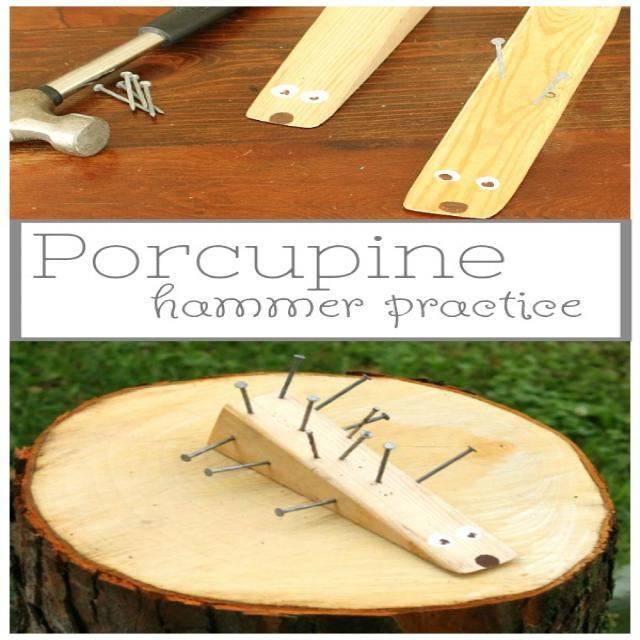hammer: (0, 0, 240, 172)
